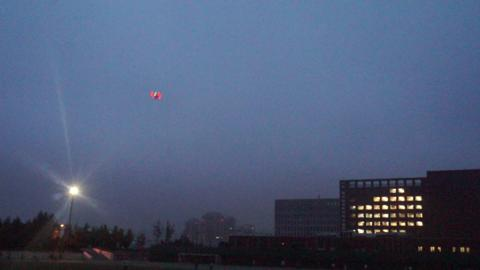UAV: (150, 91, 162, 100)
